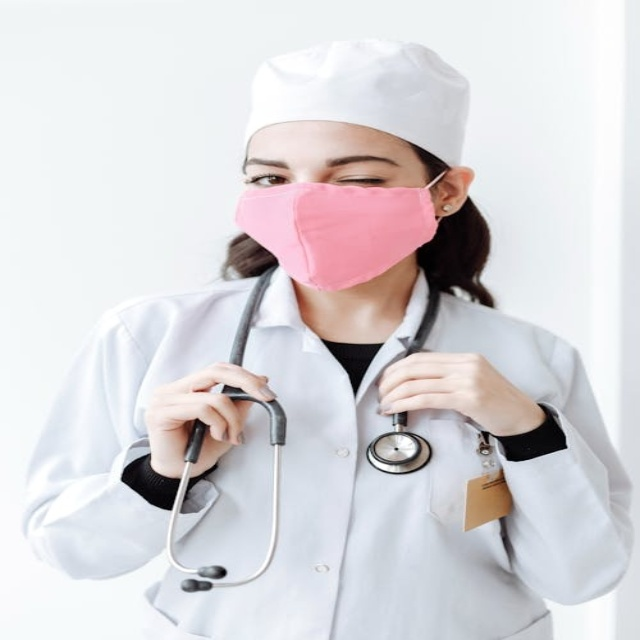Mascara: (235, 173, 445, 291)
Sin_gafas: (238, 146, 407, 195)
Sin_guantes: (369, 340, 550, 443), (142, 361, 278, 474)
